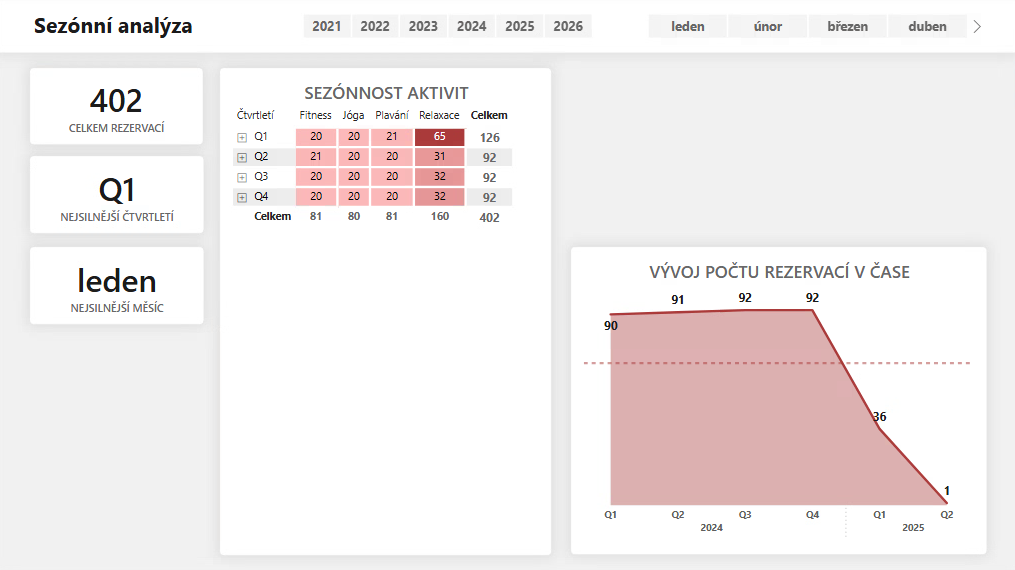

Layout of this report page (visuals, bound fields, positions):
{"tool":"powerbi","page":{"name":"Sezónní analýza","canvas":[1280,720],"ordinal":3},"visuals":[{"type":"pivotTable","title":"SEZÓNNOST AKTIVIT","fields":{"Rows":["Kalendar.Rok Hierarchy.Čtvrtletí","Kalendar.Rok Hierarchy.Měsíc"],"Columns":["Aktivity.Nazev"],"Values":["CountNonNull(Rezervace.RezervaceID)"]},"box":[278.3,88.8,416.3,611.8],"z":0},{"type":"areaChart","title":"VÝVOJ POČTU REZERVACÍ V ČASE","fields":{"Y":["CountNonNull(Rezervace.RezervaceID)"],"Category":["Kalendar.Rok Hierarchy.Rok","Kalendar.Rok Hierarchy.Čtvrtletí","Kalendar.Rok Hierarchy.Měsíc"]},"box":[719.8,314.3,521.8,386.3],"z":2000},{"type":"shape","box":[0,0,1280,69.6],"z":4000},{"type":"textbox","box":[39.6,10.8,317.9,49.2],"z":5000},{"type":"card","title":"UNIKÁTNÍ KLIENTI","fields":{"Values":["CountNonNull(Rezervace.RezervaceID)"]},"box":[39.6,88.8,217.1,96],"z":6000},{"type":"card","title":"UNIKÁTNÍ KLIENTI","fields":{"Values":["Rezervace.NejsilnejsiCtvrtletiNavstevovanost"]},"box":[39.6,200.3,218.3,97.2],"z":7000},{"type":"card","title":"UNIKÁTNÍ KLIENTI","fields":{"Values":["Rezervace.NejsilnejsiMesicNavstevovanost"]},"box":[39.6,314.3,218.3,97.2],"z":8000},{"type":"slicer","title":"ROK","fields":{"Values":["Kalendar.Rok Hierarchy.Rok"]},"box":[358.1,15.4,411.6,41.2],"z":9000},{"type":"slicer","title":"ROK","fields":{"Values":["Kalendar.Rok Hierarchy.Měsíc"]},"box":[791.3,15.4,449.6,40.1],"z":10000}]}

Visuals, with their boxes in screenshot pixels (x1, y1, x2, y2), scaled from the page's 1280x720 canvas onto the 1015x570 screenshot:
"SEZÓNNOST AKTIVIT" pivotTable: <bbox>221, 70, 551, 555</bbox>
"VÝVOJ POČTU REZERVACÍ V ČASE" areaChart: <bbox>571, 249, 985, 555</bbox>
shape: <bbox>0, 0, 1014, 55</bbox>
textbox: <bbox>31, 9, 283, 48</bbox>
"UNIKÁTNÍ KLIENTI" card: <bbox>31, 70, 204, 146</bbox>
"UNIKÁTNÍ KLIENTI" card: <bbox>31, 159, 205, 236</bbox>
"UNIKÁTNÍ KLIENTI" card: <bbox>31, 249, 205, 326</bbox>
"ROK" slicer: <bbox>284, 12, 610, 45</bbox>
"ROK" slicer: <bbox>627, 12, 984, 44</bbox>
